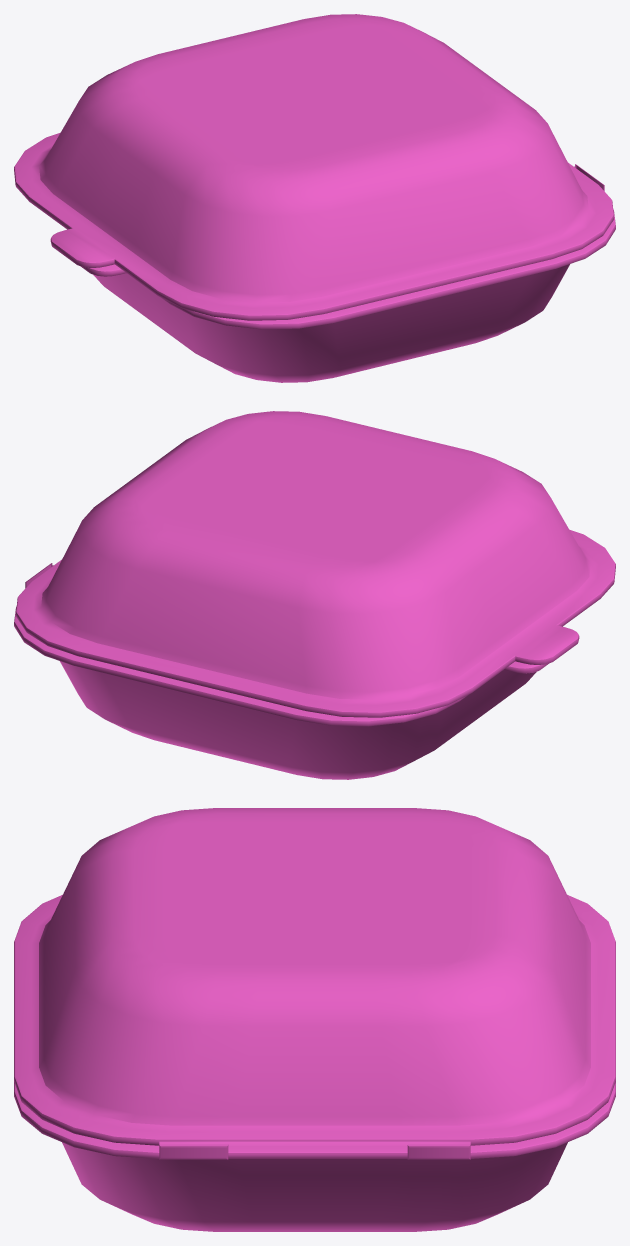
The model's file is donut_stack_revize.fbx.
3 views of the same model, one above another, from view 1: azimuth 30°, elevation 25°; view 2: azimuth 150°, elevation 25°; view 3: azimuth 270°, elevation 25° (orthographic). The views are drawn at different scales.
Visible parts, largest first — view 1: donut_stack; view 2: donut_stack; view 3: donut_stack.
Boxes of the visible parts, bbox=[...] form: donut_stack: bbox=[14, 14, 615, 382]; donut_stack: bbox=[14, 411, 615, 779]; donut_stack: bbox=[14, 808, 615, 1231].
Bounding box in the file's own units: 264 × 111 × 238.
